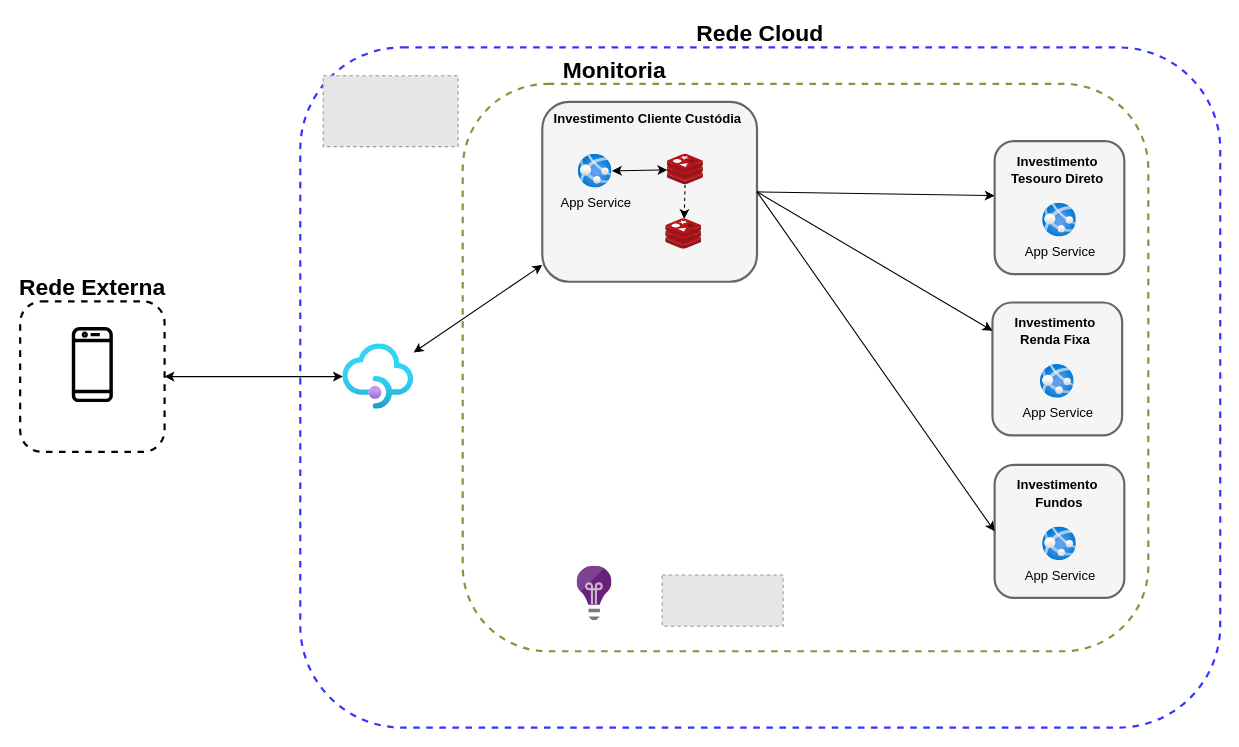
Some shapes in this 1239 by 747 pixel diagram are drawn without their labels. Grey dashed boxes stand in for pictures. Here are the shapes that lost their labels. From the top down, the centre of each, then its label:
point (685, 169): Master Redis
point (683, 233): Slave Redis
point (91, 364): Device
point (377, 376): API management
point (594, 593): Application Insights
